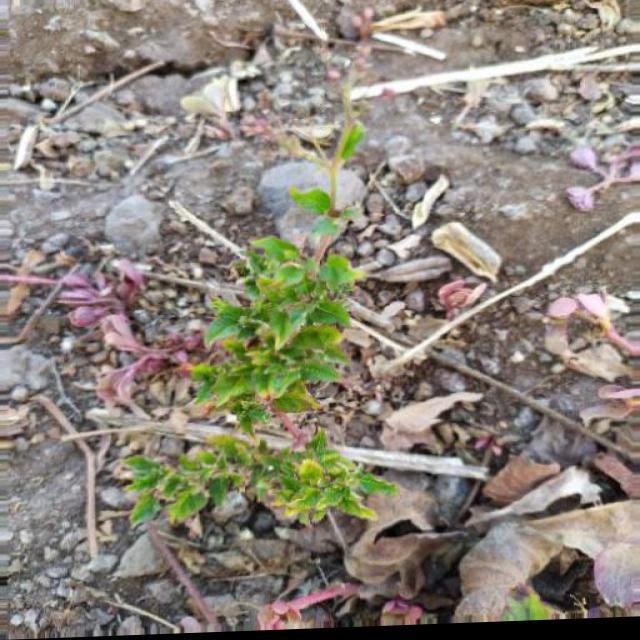weed: (119, 157, 389, 544)
